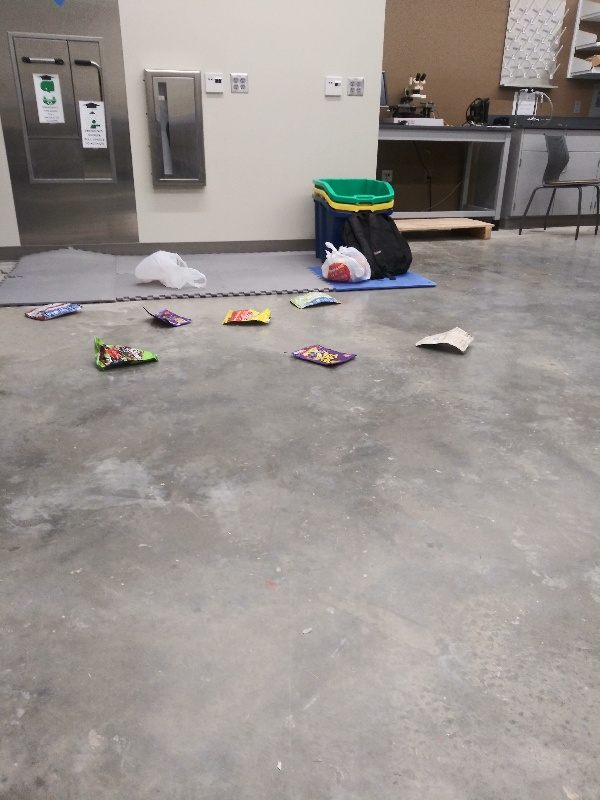bag: (88, 333, 157, 368), (289, 339, 360, 371), (412, 325, 477, 354), (20, 300, 89, 321), (221, 304, 274, 331), (143, 304, 197, 329), (286, 291, 345, 311)
